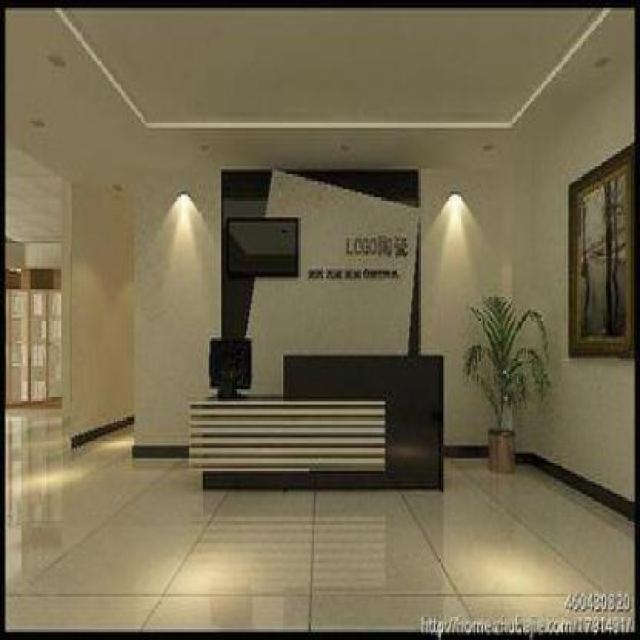frontdesk: (182, 338, 456, 504)
